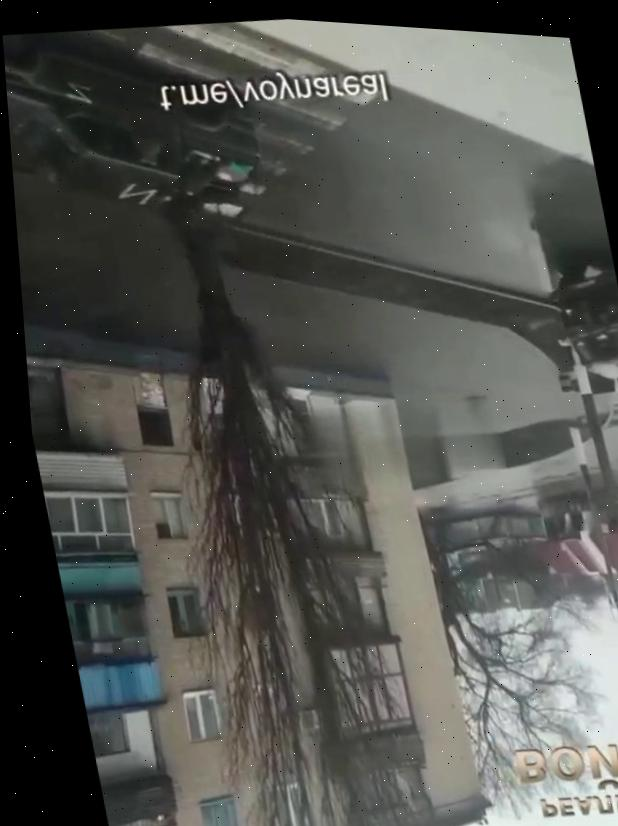car: (0, 6, 276, 250)
truck: (540, 245, 618, 411)
